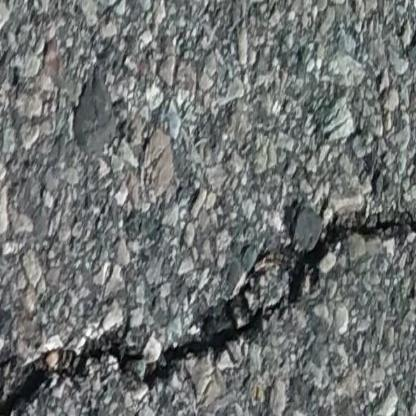Cracks: (0, 170, 416, 416)
